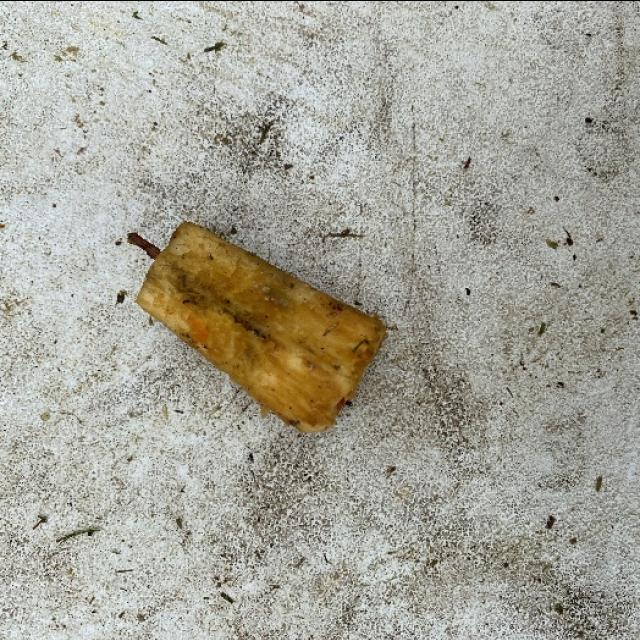organik: (128, 228, 394, 431)
